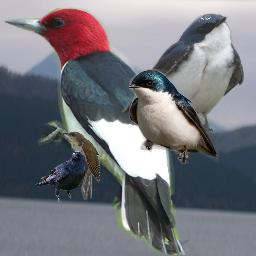Crow: (35, 151, 85, 202)
Cuckoo: (62, 131, 100, 200)
Swallow: (122, 13, 245, 136), (129, 69, 219, 164)
Woodpecker: (1, 7, 190, 255)
